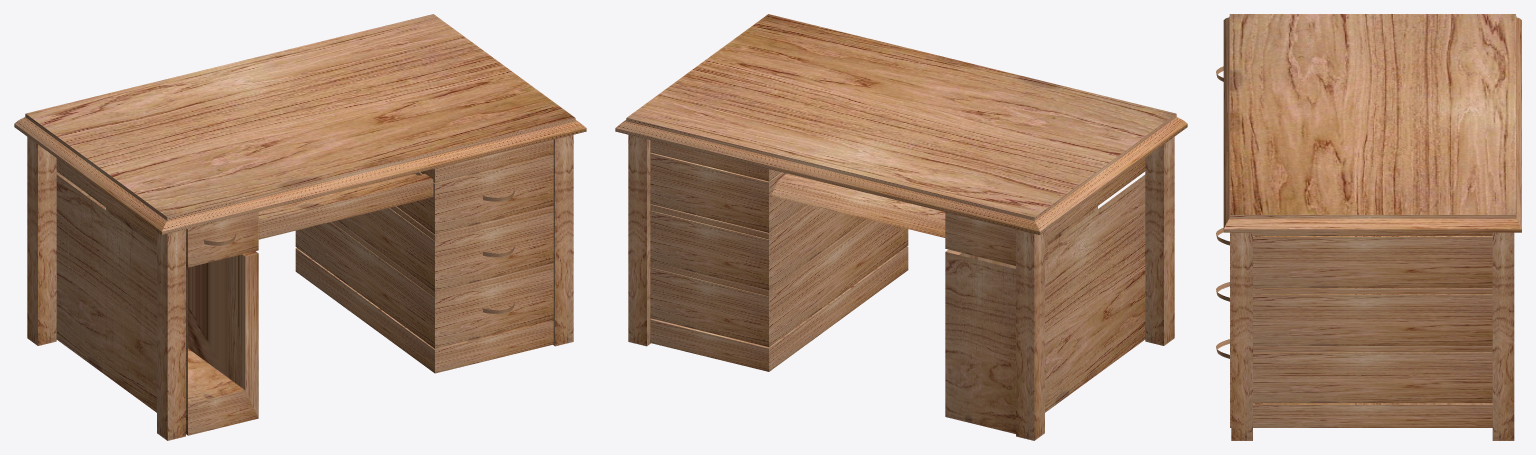
The model's file is Computer_Table.obj.
3 views of the same model, side by side, from view 1: azimuth 30°, elevation 25°; view 2: azimuth 150°, elevation 25°; view 3: azimuth 270°, elevation 25° (orthographic).
Parts seen in each view (by area): view 1: Cube, Cube_11, Cube_3, Stand_2, Cube_2, Cube_1, Cube_5, Stand_1, Cube_9, Cube_10, Cube_4, Cube_8 (+1 smaller); view 2: Cube, Cube_11, Cube_3, Stand_1, Cube_2, Cube_1, Cube_5, Stand_2, Cube_9, Cube_10, Cube_4, Cube_8 (+1 smaller); view 3: Cube, Cube_2, Cube_1, Cube_3, Cube_5, Stand_1, Stand_2, Cube_7, Cube_8, Cube_4.
Boxes of the visible parts, left/top/right/bottom form: Cube: left=14, top=14, right=586, bottom=234; Cube_11: left=56, top=171, right=258, bottom=435; Cube_3: left=295, top=222, right=553, bottom=348; Stand_2: left=157, top=135, right=573, bottom=440; Cube_2: left=337, top=208, right=553, bottom=291; Cube_1: left=396, top=154, right=553, bottom=234; Cube_5: left=295, top=248, right=553, bottom=373; Stand_1: left=27, top=137, right=56, bottom=345; Cube_9: left=258, top=173, right=433, bottom=239; Cube_10: left=56, top=158, right=258, bottom=267; Cube_4: left=420, top=139, right=553, bottom=182; Cube_8: left=331, top=220, right=553, bottom=297; Cube: left=615, top=14, right=1187, bottom=234; Cube_11: left=945, top=174, right=1145, bottom=433; Cube_3: left=650, top=220, right=908, bottom=346; Stand_1: left=628, top=135, right=1044, bottom=440; Cube_2: left=650, top=206, right=866, bottom=290; Cube_1: left=650, top=153, right=807, bottom=232; Cube_5: left=650, top=246, right=908, bottom=371; Stand_2: left=1145, top=137, right=1174, bottom=345; Cube_9: left=771, top=173, right=945, bottom=237; Cube_10: left=945, top=158, right=1145, bottom=265; Cube_4: left=650, top=140, right=781, bottom=181; Cube_8: left=650, top=219, right=872, bottom=296; Cube: left=1223, top=14, right=1521, bottom=232; Cube_2: left=1230, top=294, right=1492, bottom=345; Cube_1: left=1230, top=236, right=1492, bottom=287; Cube_3: left=1230, top=352, right=1492, bottom=403; Cube_5: left=1230, top=403, right=1492, bottom=427; Stand_1: left=1492, top=232, right=1514, bottom=440; Stand_2: left=1231, top=232, right=1252, bottom=440; Cube_7: left=1230, top=288, right=1492, bottom=294; Cube_8: left=1230, top=346, right=1492, bottom=351; Cube_4: left=1230, top=232, right=1492, bottom=235.
Size of the model in its own units: 458 by 231 by 283.
Materials: 1 (1 with a texture image).
